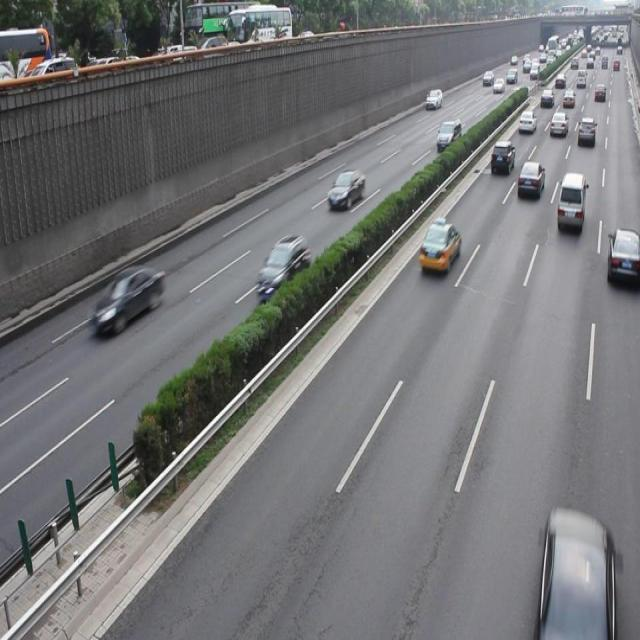car: (535, 508, 613, 640), (87, 263, 164, 336), (255, 236, 310, 300), (417, 219, 461, 274), (604, 227, 640, 285), (326, 167, 365, 209), (517, 159, 543, 198), (489, 140, 514, 175)
truck: (555, 172, 585, 227)
